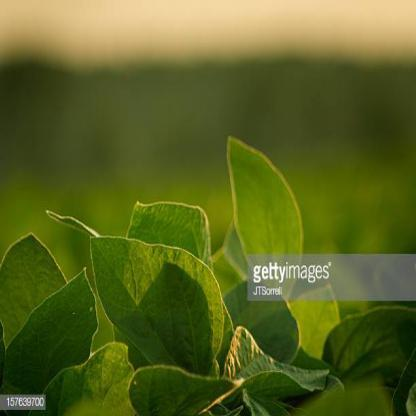Soyabean leaf: (89, 236, 225, 378), (2, 266, 99, 392), (0, 230, 70, 358)
